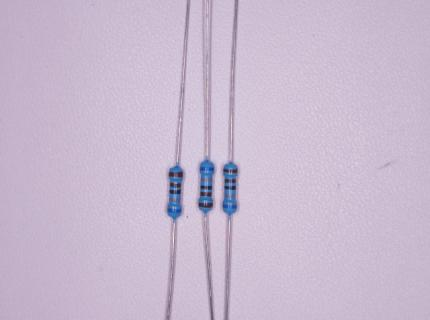Black band: (224, 185, 236, 190), (200, 185, 212, 190), (169, 189, 181, 194)
Blue band: (167, 208, 182, 213), (223, 204, 237, 209), (199, 167, 214, 171)
Brown band: (169, 171, 183, 178), (223, 168, 238, 174), (199, 202, 213, 208), (170, 182, 181, 188), (200, 192, 212, 197), (224, 179, 236, 183)
Grey band: (169, 197, 180, 202), (200, 178, 212, 182), (224, 194, 236, 198)
